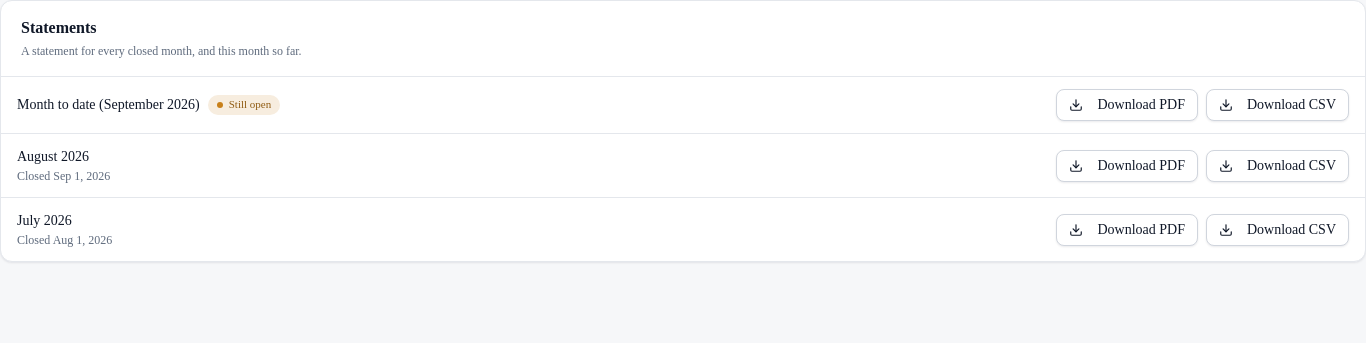
Test: StatementsPanel › shows the reason a statement could not be produced
Click the button with aria-label "Download Month to date (September 2026) PDF".
click(1127, 105)  # box [1056, 89, 1198, 121]
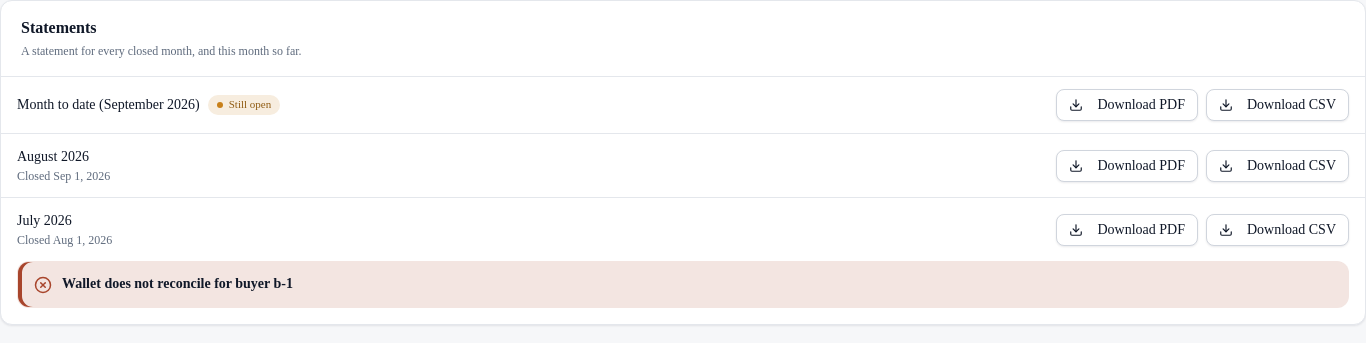
Now the heading "Wallet does not reconcile for buyer b-1" is shown, box [62, 276, 293, 291]
